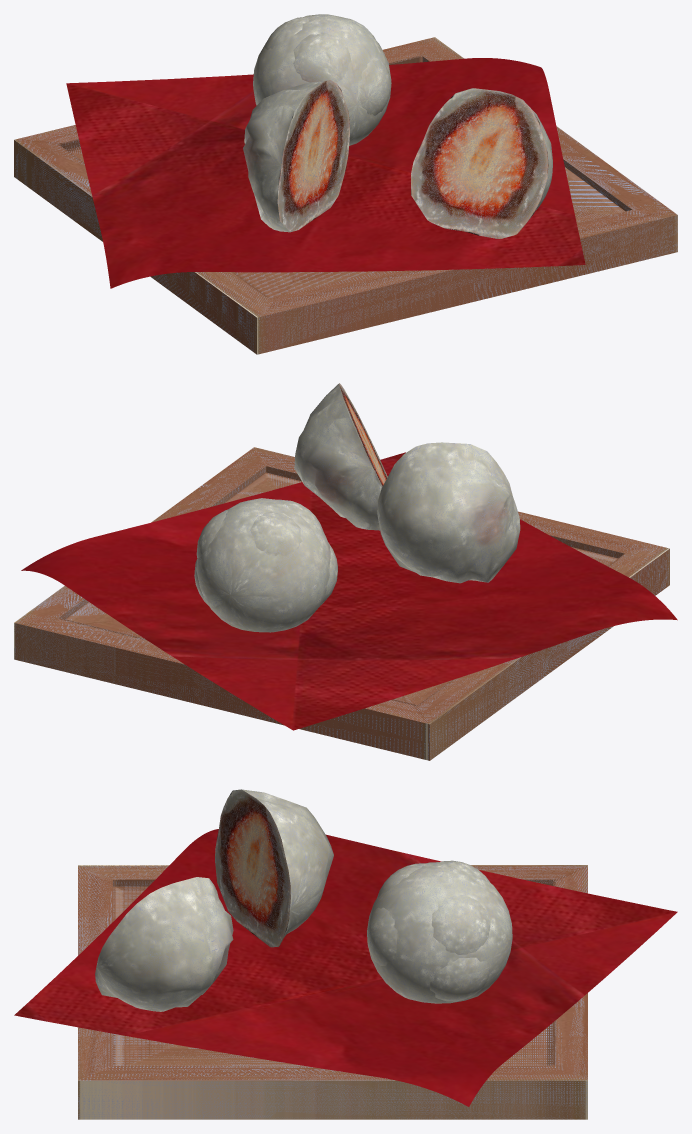
The picture shows the model from 3 angles, top to bottom: view 1: azimuth 30°, elevation 25°; view 2: azimuth 150°, elevation 25°; view 3: azimuth 270°, elevation 25°; orthographic projection. The views are drawn at different scales.
Visible parts, largest first — view 1: Tovagliolo, Piatto, Ichigo-02 (×3), Ichigo-04 (×4); view 2: Tovagliolo, Piatto, Ichigo-02 (×3), Ichigo-04 (×3); view 3: Tovagliolo, Piatto, Ichigo-02 (×3), Ichigo-04 (×4).
Boxes of the visible parts, box(x1,y1,x2,y2) form: Tovagliolo: box(66, 58, 585, 288); Piatto: box(14, 37, 677, 354); Ichigo-02 (×3): box(243, 80, 548, 238); Ichigo-04 (×4): box(253, 14, 391, 145); Tovagliolo: box(21, 452, 677, 730); Piatto: box(14, 447, 669, 760); Ichigo-02 (×3): box(294, 383, 520, 583); Ichigo-04 (×3): box(196, 498, 330, 632); Tovagliolo: box(14, 829, 677, 1106); Piatto: box(78, 865, 587, 1119); Ichigo-02 (×3): box(95, 789, 333, 1011); Ichigo-04 (×4): box(367, 862, 512, 1003).
Size of the model in its own units: 103 by 103 by 30.91.
5 materials, 4 textured.
